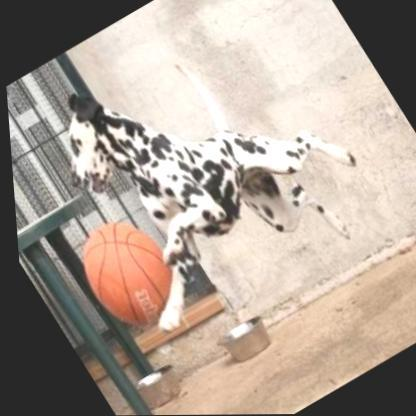basketball: (51, 200, 195, 345)
